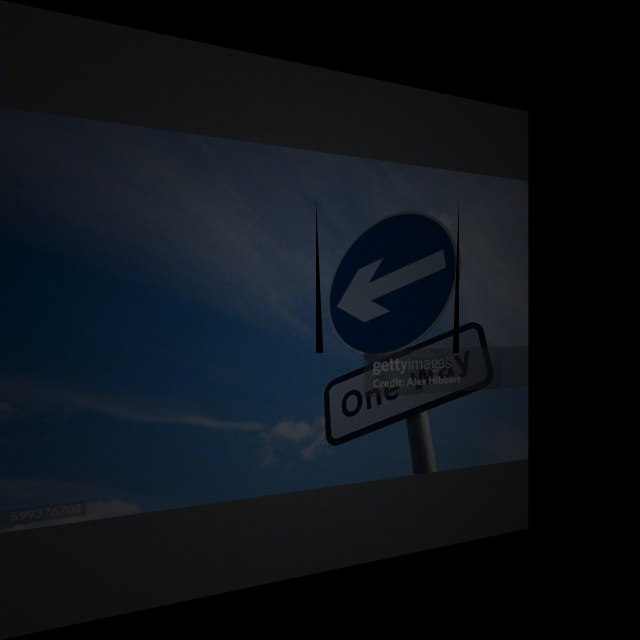Compulsory_Turn_Left: (316, 198, 459, 353)
